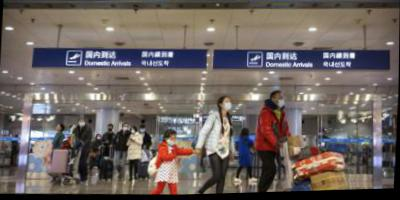NONE: (57, 126, 62, 132)
OK: (277, 96, 287, 110), (223, 101, 233, 113), (79, 121, 87, 128), (123, 126, 130, 133), (141, 129, 147, 134), (109, 127, 113, 132), (132, 129, 136, 134), (98, 136, 102, 140)
WRONG: (170, 137, 178, 147)
